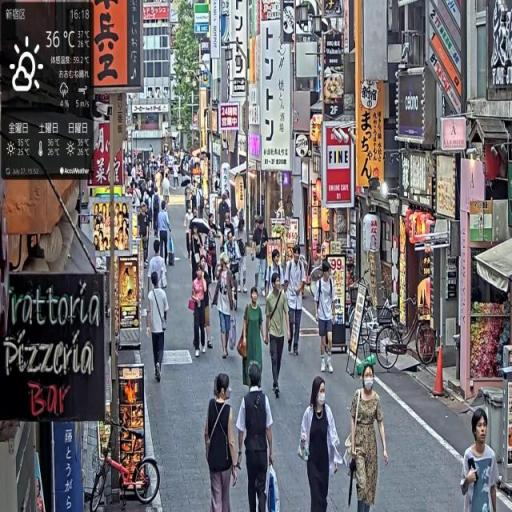person: (235, 359, 279, 512), (348, 363, 391, 512), (299, 376, 344, 512), (205, 372, 241, 512), (460, 409, 502, 512), (265, 272, 292, 400), (310, 260, 338, 374), (239, 286, 268, 392), (284, 243, 309, 357), (148, 269, 171, 384), (213, 257, 238, 360), (190, 263, 211, 357), (252, 217, 271, 301), (149, 241, 169, 294), (158, 202, 173, 265)
